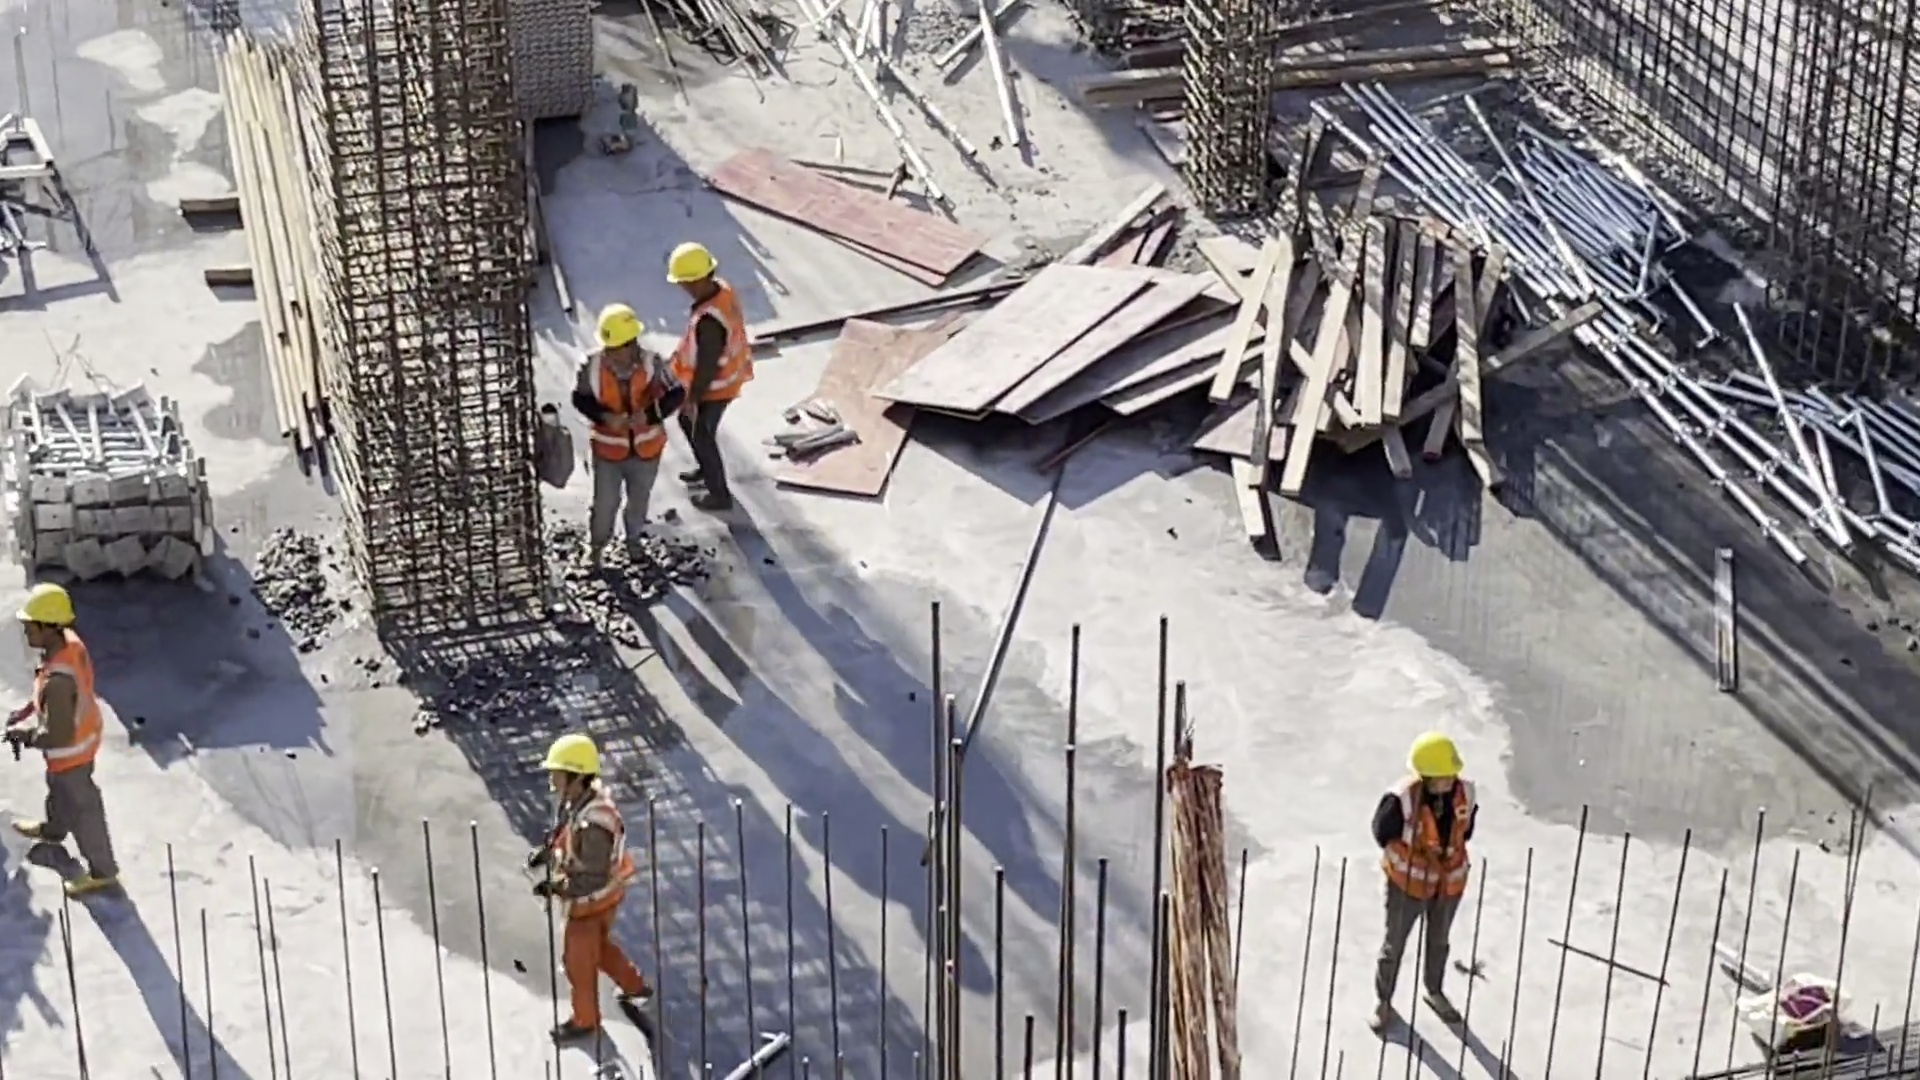board: (950, 277, 1244, 447)
helmet: (19, 580, 75, 625), (1408, 744, 1477, 779), (665, 241, 716, 284), (540, 741, 597, 776), (592, 306, 638, 346)
person: (1360, 733, 1485, 1037), (3, 576, 121, 895), (533, 727, 653, 1040), (570, 305, 686, 569), (655, 234, 749, 519)
rebar: (1732, 1019, 1916, 1080), (639, 1, 773, 68)
scaffold: (1424, 135, 1708, 373), (457, 1, 595, 132)
vest: (28, 657, 104, 760), (547, 814, 624, 910), (1388, 796, 1473, 884), (581, 368, 643, 473), (678, 306, 743, 395)
wood: (1231, 247, 1506, 487)
